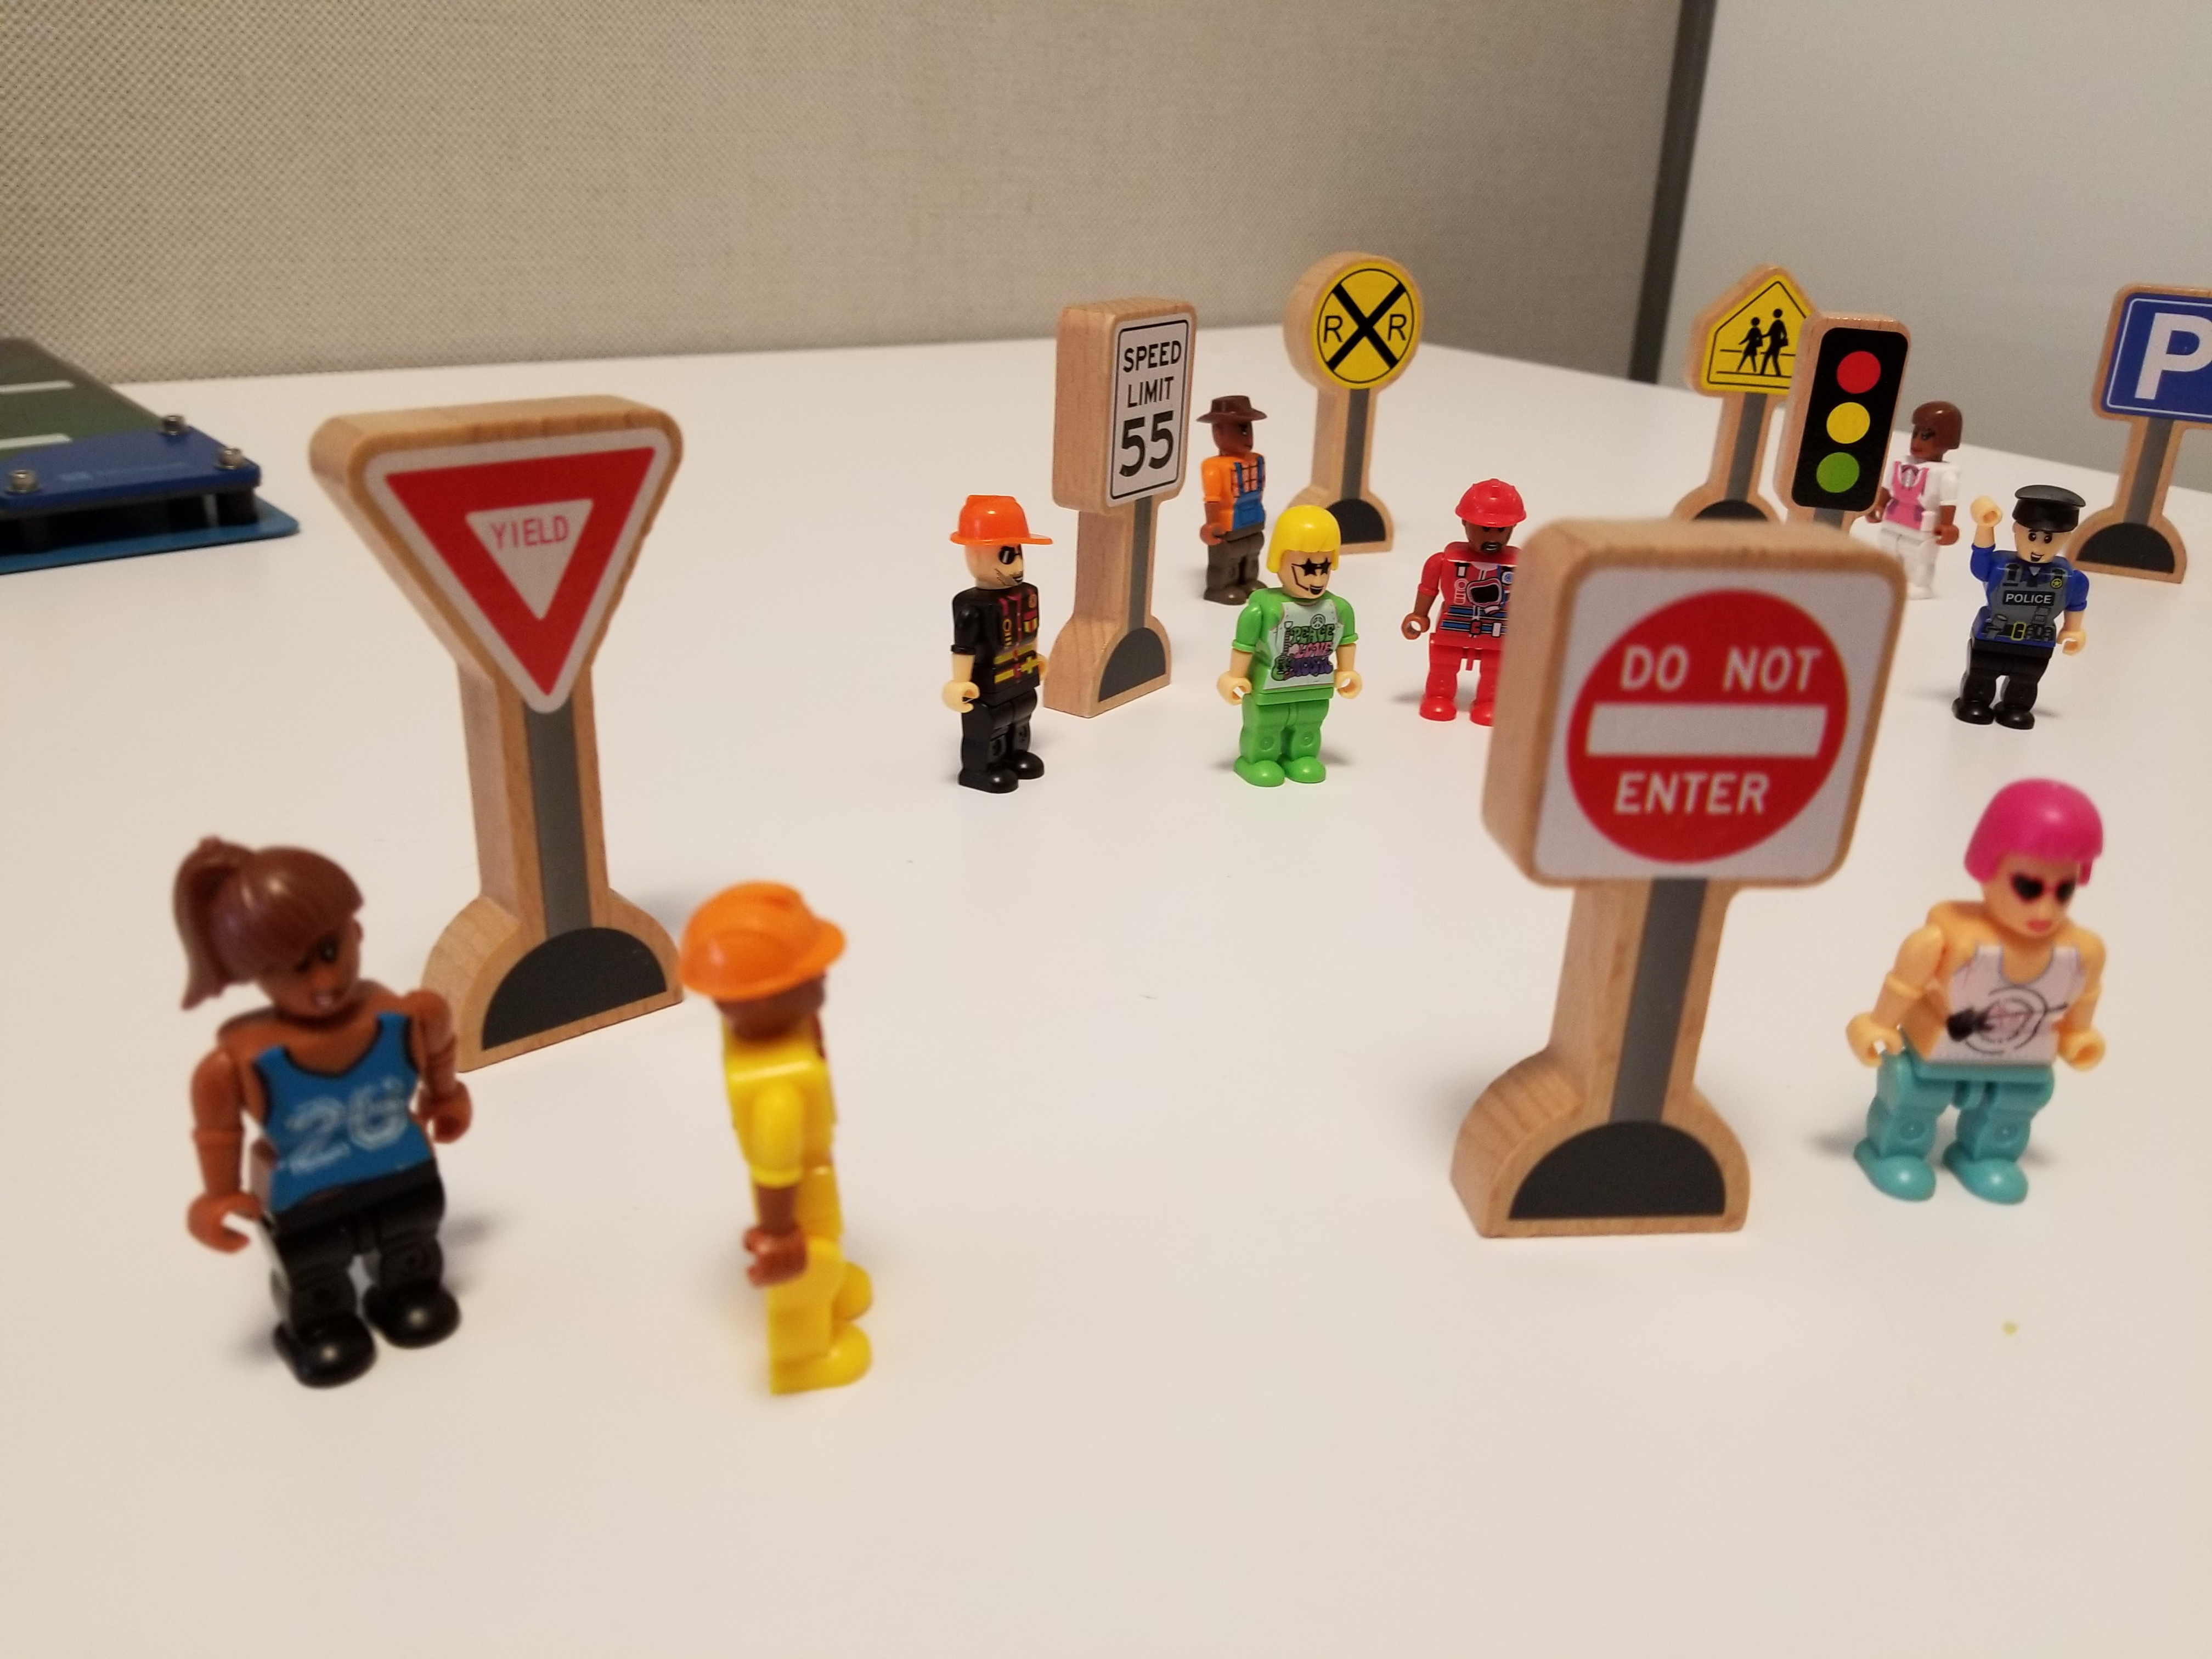Do not enter: (1498, 517, 1926, 1252)
Parking: (2092, 260, 2212, 458)
Pedestrian crossing: (1664, 234, 1796, 447)
Railroad Crossing: (1276, 240, 1447, 411)
Speed limit 55: (1048, 282, 1195, 583)
Traffic Light: (1801, 308, 1901, 550)
Yield: (284, 359, 710, 765)
person: (166, 820, 493, 1419), (662, 853, 938, 1476), (1897, 752, 2147, 1248), (907, 477, 1061, 831), (1221, 490, 1377, 817), (1965, 460, 2110, 725), (1401, 460, 1513, 756), (1199, 381, 1276, 580), (1899, 387, 1965, 618)
